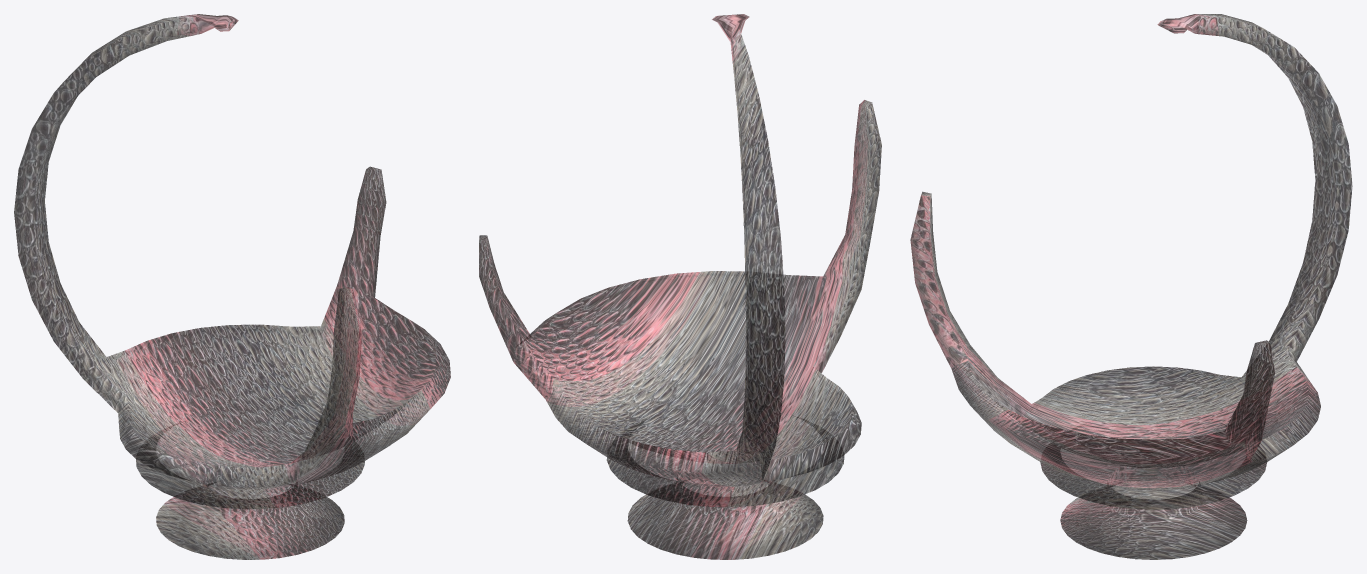
The model's file is device.glb.
3 views of the same model, side by side, from view 1: azimuth 30°, elevation 25°; view 2: azimuth 150°, elevation 25°; view 3: azimuth 270°, elevation 25° (orthographic). The views are drawn at different scales.
Parts seen in each view (by area): view 1: Sphere; view 2: Sphere; view 3: Sphere.
Boxes of the visible parts, left/top/right/bottom form: Sphere: left=14, top=14, right=450, bottom=559; Sphere: left=479, top=14, right=881, bottom=559; Sphere: left=910, top=14, right=1352, bottom=559.
Bounding box in the file's own units: 2.13 × 3.02 × 2.47.
1 material, 1 textured.
